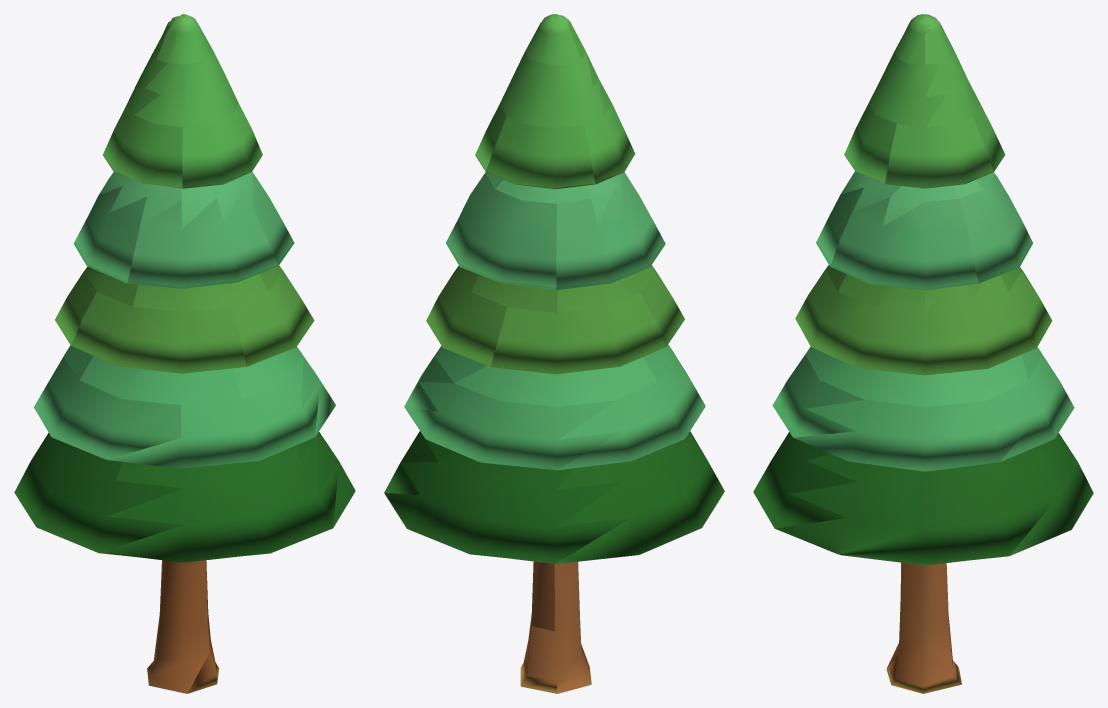
File: pinetree_new.glb
The picture shows the model from 3 angles, left to right: view 1: azimuth 30°, elevation 25°; view 2: azimuth 150°, elevation 25°; view 3: azimuth 270°, elevation 25°; orthographic projection.
Visible parts, largest first — view 1: mesh_node; view 2: mesh_node; view 3: mesh_node.
Part boxes in pixels (x1=…): mesh_node: x1=14, y1=14, x2=355, y2=693; mesh_node: x1=384, y1=14, x2=724, y2=693; mesh_node: x1=753, y1=14, x2=1093, y2=693.
Size of the model in its own units: 0.4697 by 1 by 0.4668.
1 material, 1 textured.
